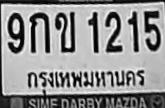1: (87, 11, 98, 52), (127, 10, 137, 52)
2: (104, 11, 122, 51)
5: (143, 10, 160, 50)
9: (7, 12, 23, 53)
A01: (29, 11, 49, 52)
A02: (54, 11, 74, 52)
BKK: (24, 67, 148, 93)
